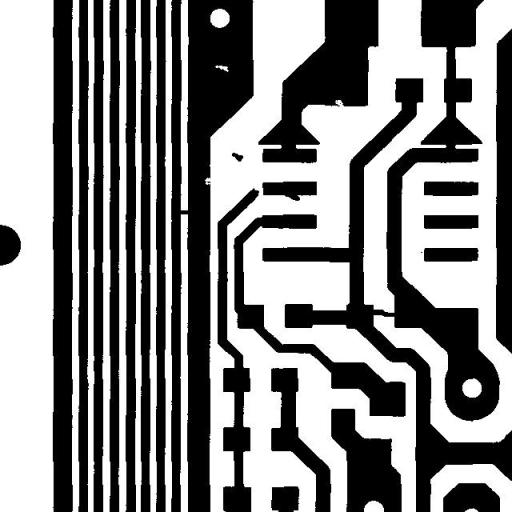copper: (224, 145, 250, 169)
mousebite: (327, 92, 352, 115), (197, 170, 219, 192)
open: (246, 175, 270, 207)
pin-hole: (207, 58, 236, 79)
short: (362, 302, 406, 324), (170, 202, 196, 222)
spur: (277, 184, 307, 208)
